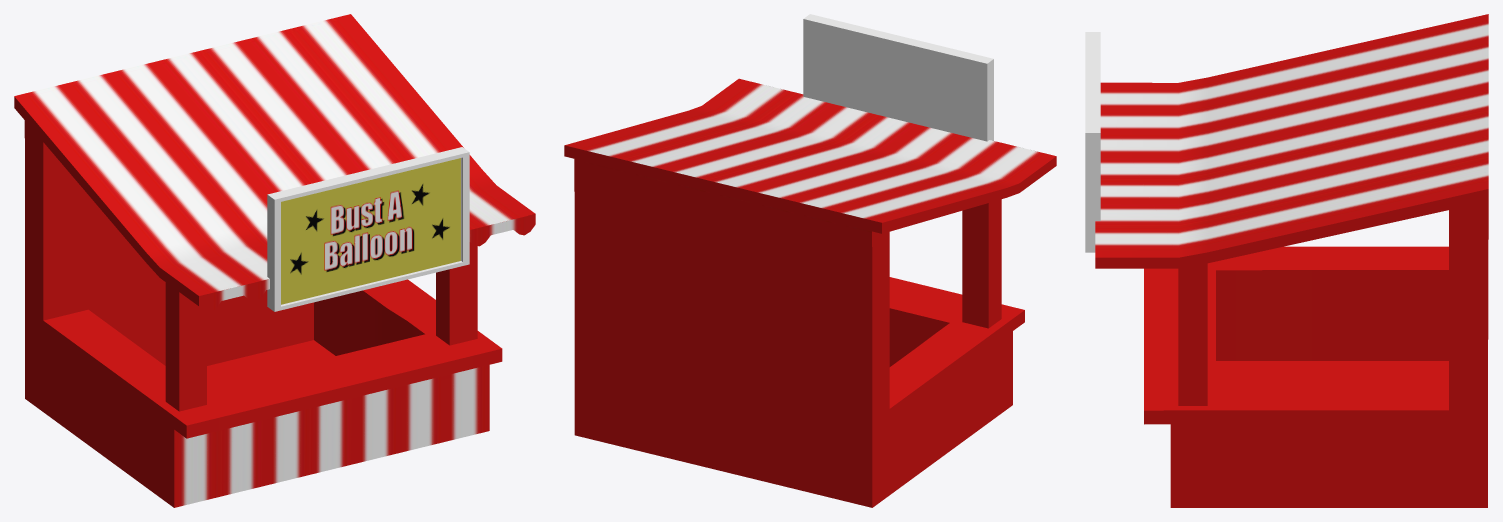
File: Booth2.fbx
3 views of the same model, side by side, from view 1: azimuth 30°, elevation 25°; view 2: azimuth 150°, elevation 25°; view 3: azimuth 270°, elevation 25° (orthographic). The views are drawn at different scales.
Parts seen in each view (by area): view 1: BoothBase, SignBase; view 2: BoothBase, SignBase; view 3: BoothBase, SignBase.
Boxes of the visible parts, left/top/right/bottom form: BoothBase: left=14, top=14, right=535, bottom=507; SignBase: left=267, top=147, right=469, bottom=311; BoothBase: left=564, top=78, right=1056, bottom=507; SignBase: left=803, top=14, right=993, bottom=141; BoothBase: left=1095, top=14, right=1488, bottom=507; SignBase: left=1085, top=32, right=1100, bottom=252.
Bounding box in the file's own units: 410 × 376 × 400.
Materials: 2 (2 with a texture image).
